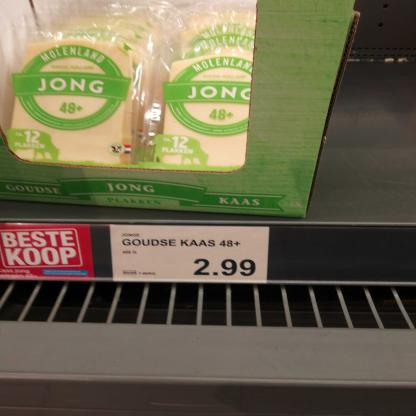prtg: (110, 226, 270, 285)
